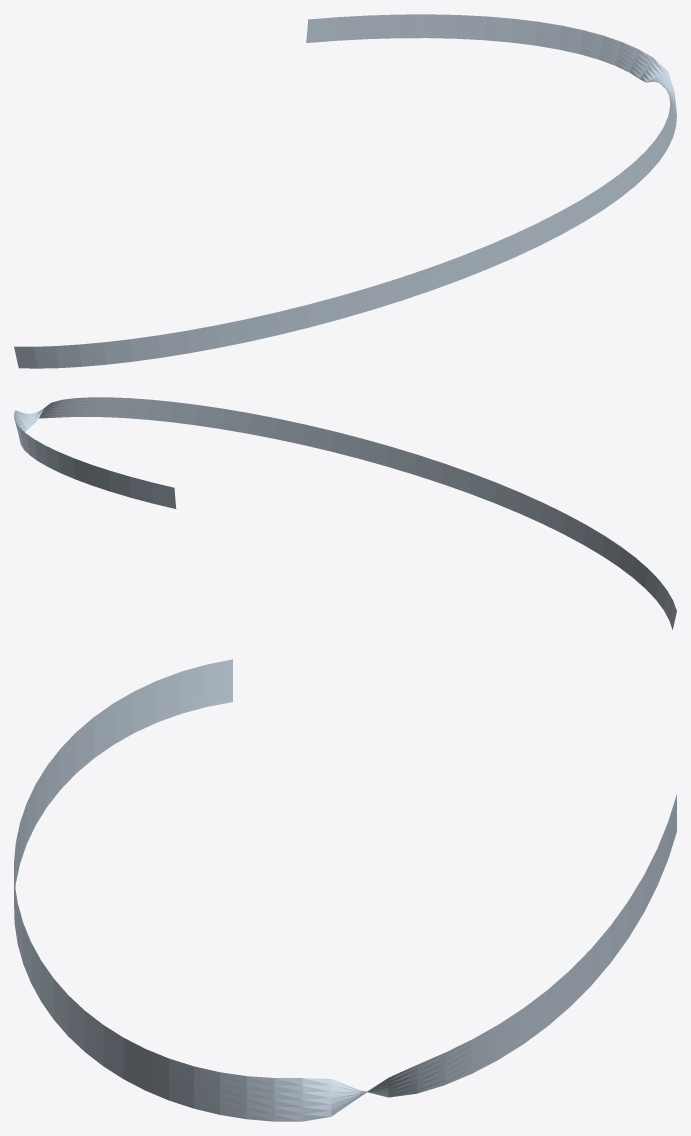
File: 2084_WateryRebirth_Overall_OwnRebirthFlow_5.fbx
3 renders of one model, top to bottom at view 1: azimuth 30°, elevation 25°; view 2: azimuth 150°, elevation 25°; view 3: azimuth 270°, elevation 25°, orthographic. The views are drawn at different scales.
Visible parts, largest first — view 1: PART_Hydro_OwnRebirthFlow_5; view 2: PART_Hydro_OwnRebirthFlow_5; view 3: PART_Hydro_OwnRebirthFlow_5.
Boxes of the visible parts, <box> form: PART_Hydro_OwnRebirthFlow_5: <box>14,14,676,368</box>; PART_Hydro_OwnRebirthFlow_5: <box>14,397,676,629</box>; PART_Hydro_OwnRebirthFlow_5: <box>14,659,676,1121</box>.
Size of the model in its own units: 217 by 45.3 by 106.
